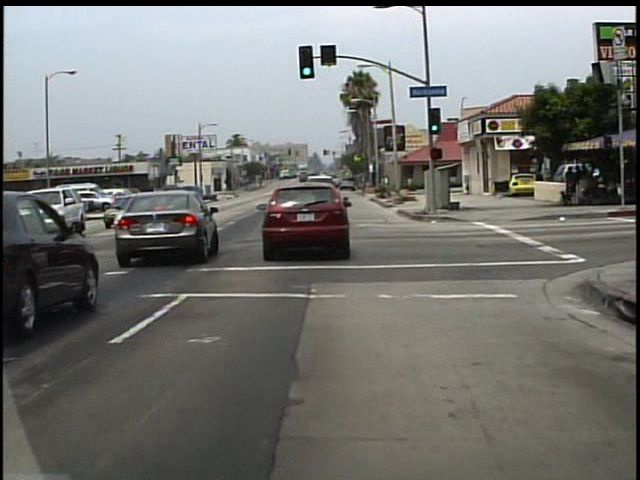person: (531, 164, 546, 200)
